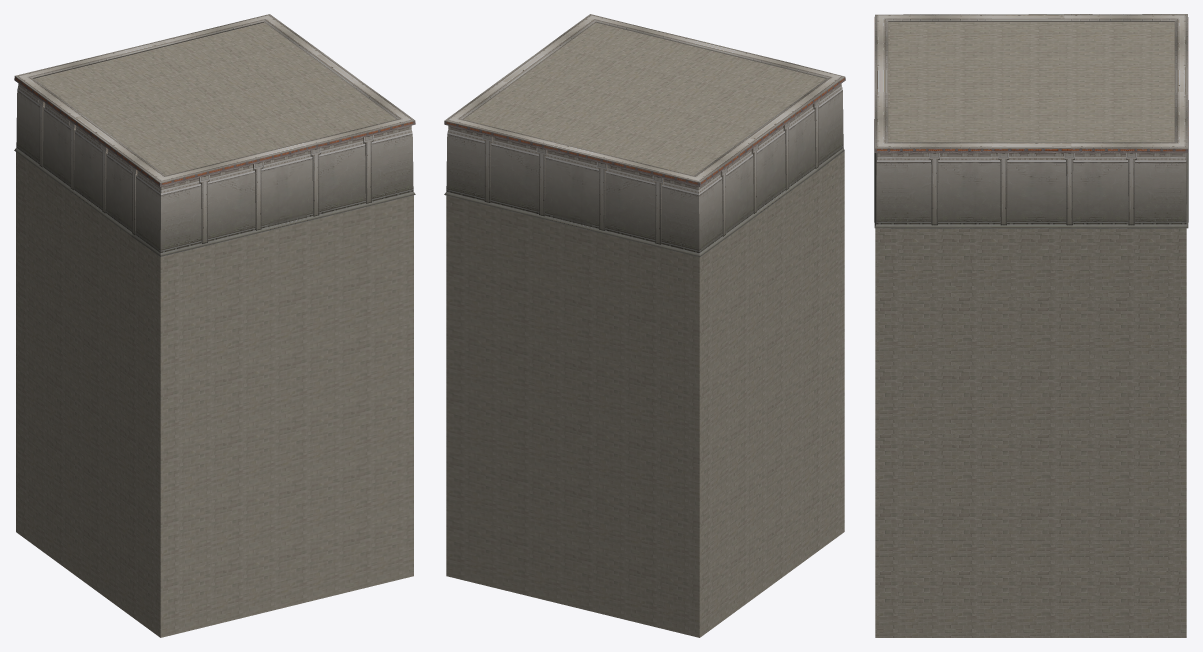
The model's file is mod_zlc_jianzhu069_xy.FBX.
3 views of the same model, side by side, from view 1: azimuth 30°, elevation 25°; view 2: azimuth 150°, elevation 25°; view 3: azimuth 270°, elevation 25° (orthographic). The views are drawn at different scales.
Parts seen in each view (by area): view 1: mod_zlc_jianzhu069_xy; view 2: mod_zlc_jianzhu069_xy; view 3: mod_zlc_jianzhu069_xy.
Part boxes in pixels (x1,y1,x2,y2): mod_zlc_jianzhu069_xy: (14,14,415,637); mod_zlc_jianzhu069_xy: (444,14,845,637); mod_zlc_jianzhu069_xy: (874,14,1188,637).
Bounding box in the file's own units: 5904 × 10037 × 5828.
Materials: 2 (2 with a texture image).
